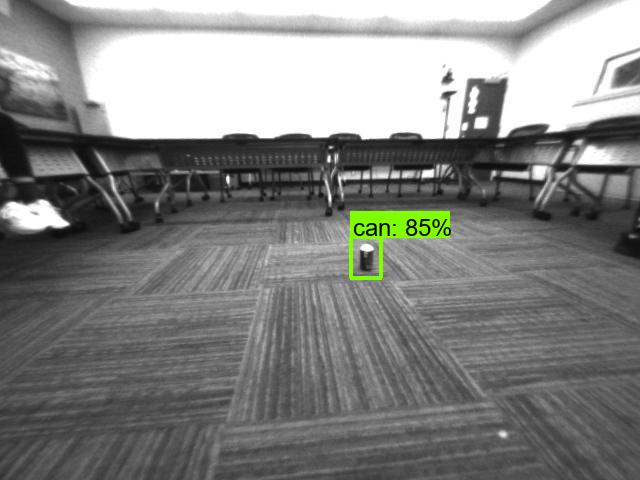can: (355, 239, 379, 274)
